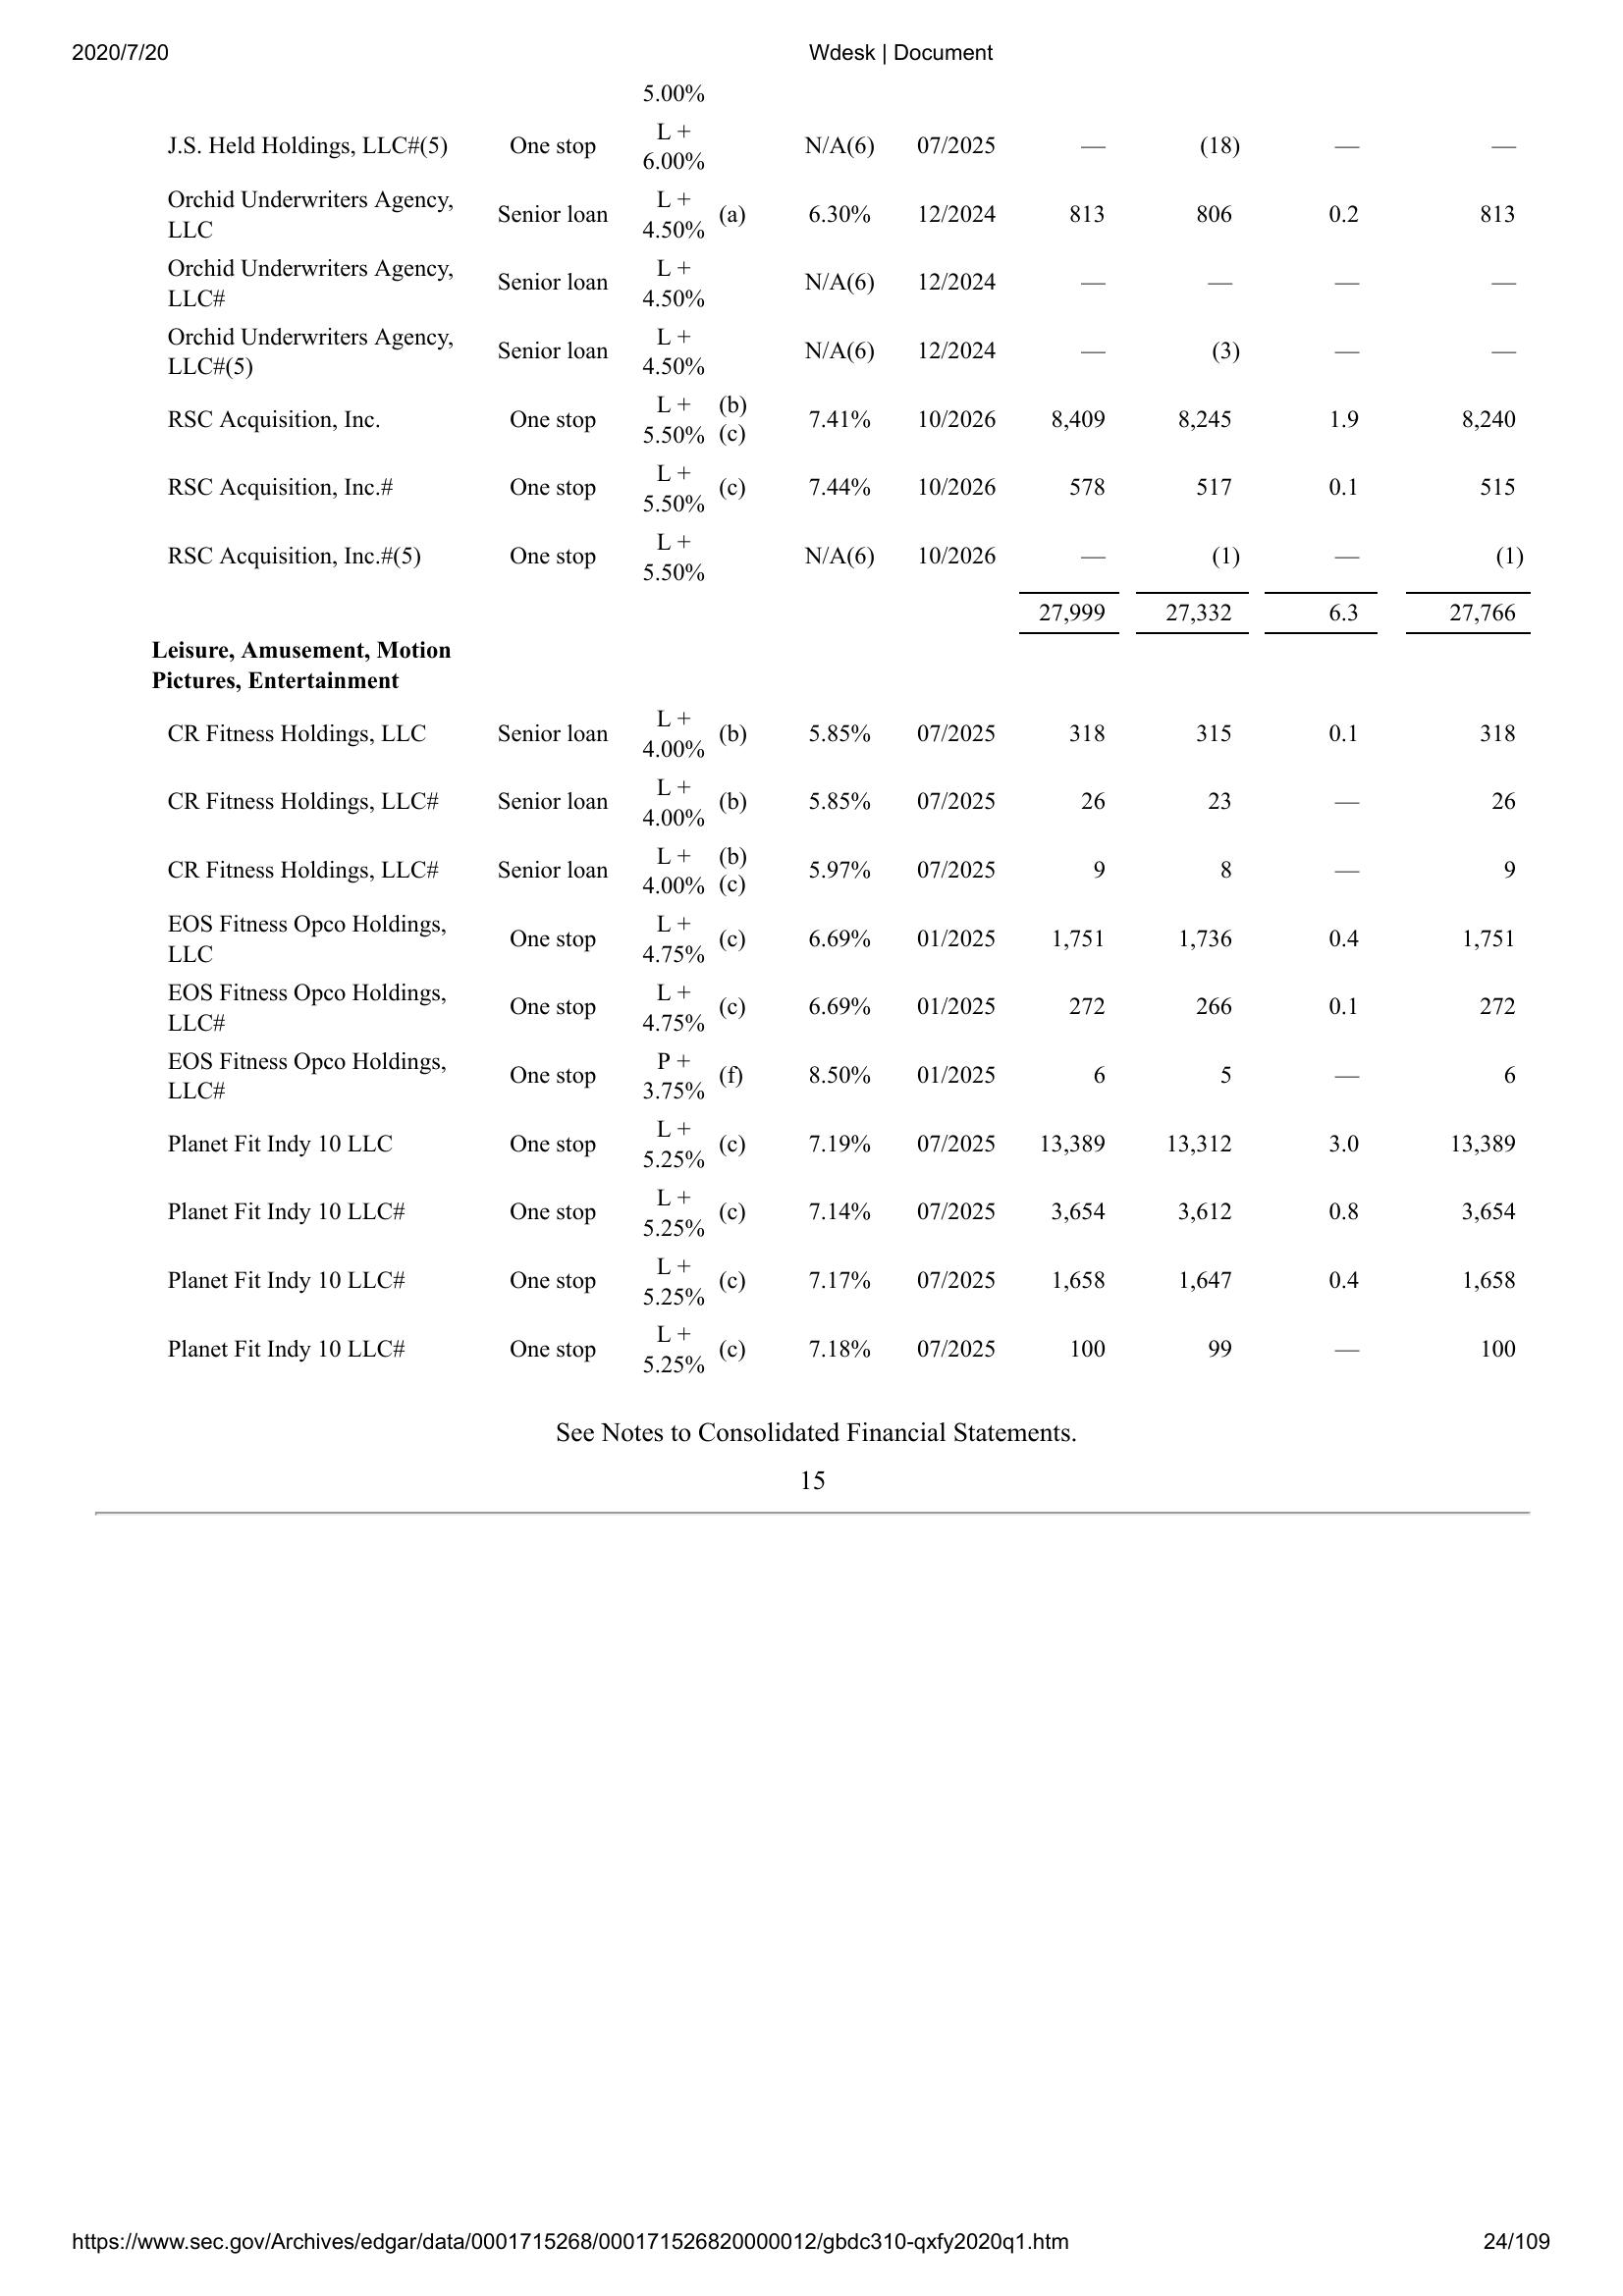table: (139, 79, 1533, 1390)
